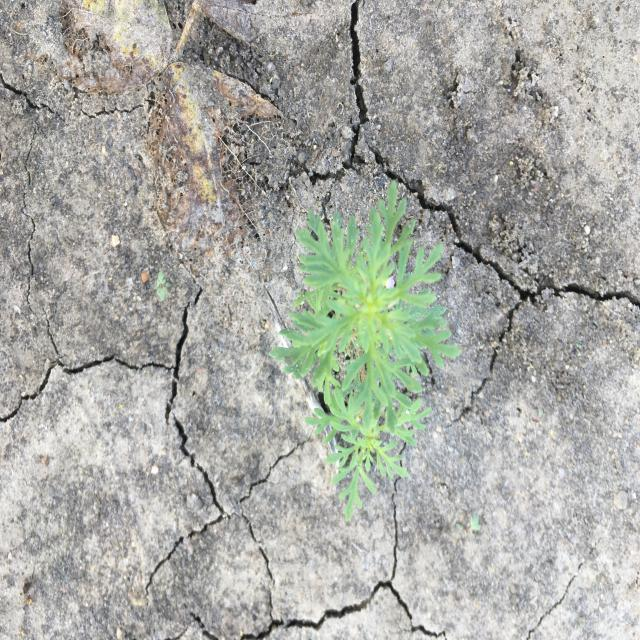Ragweed: (266, 178, 464, 524)
